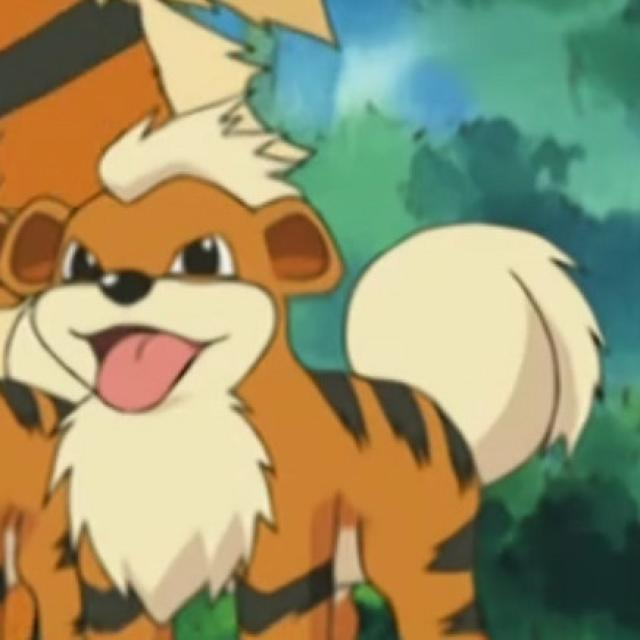Growlithe: (28, 150, 488, 640)
